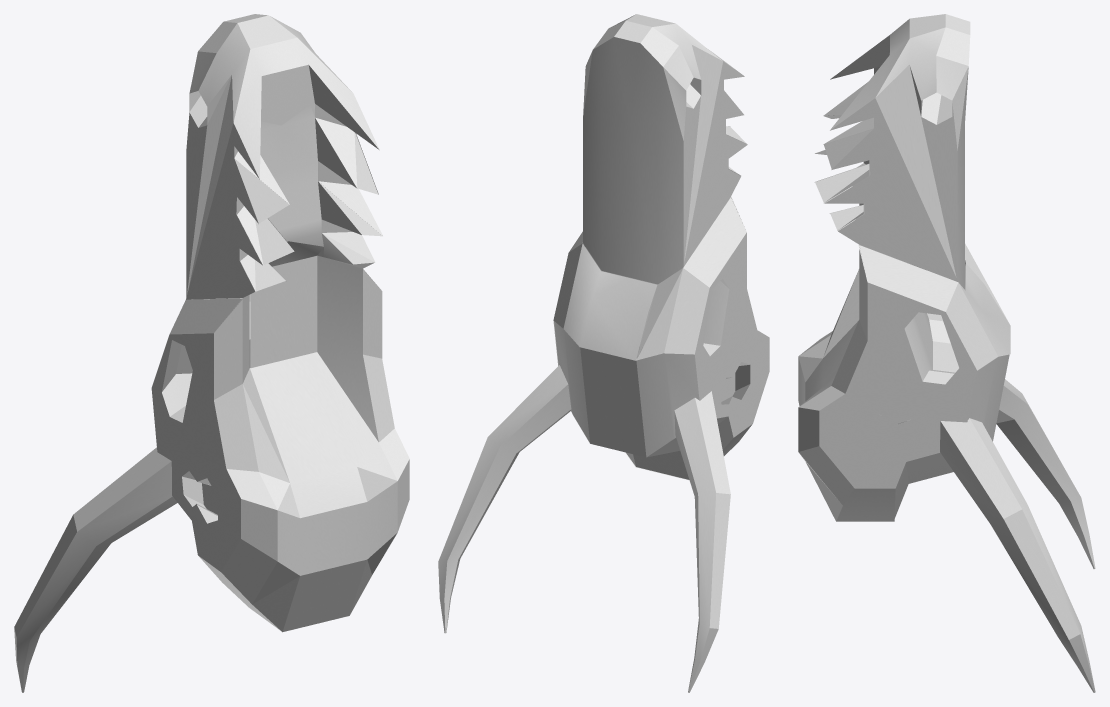
File: desert_share_bone_1.FBX
3 views of the same model, side by side, from view 1: azimuth 30°, elevation 25°; view 2: azimuth 150°, elevation 25°; view 3: azimuth 270°, elevation 25° (orthographic). The views are drawn at different scales.
Visible parts, largest first — view 1: bone_3; view 2: bone_3; view 3: bone_3.
Part boxes in pixels (bbox=[...]): bone_3: bbox=[14, 14, 409, 692]; bone_3: bbox=[438, 14, 769, 692]; bone_3: bbox=[798, 14, 1095, 692].
Size of the model in its own units: 60.59 by 122 by 53.85.
